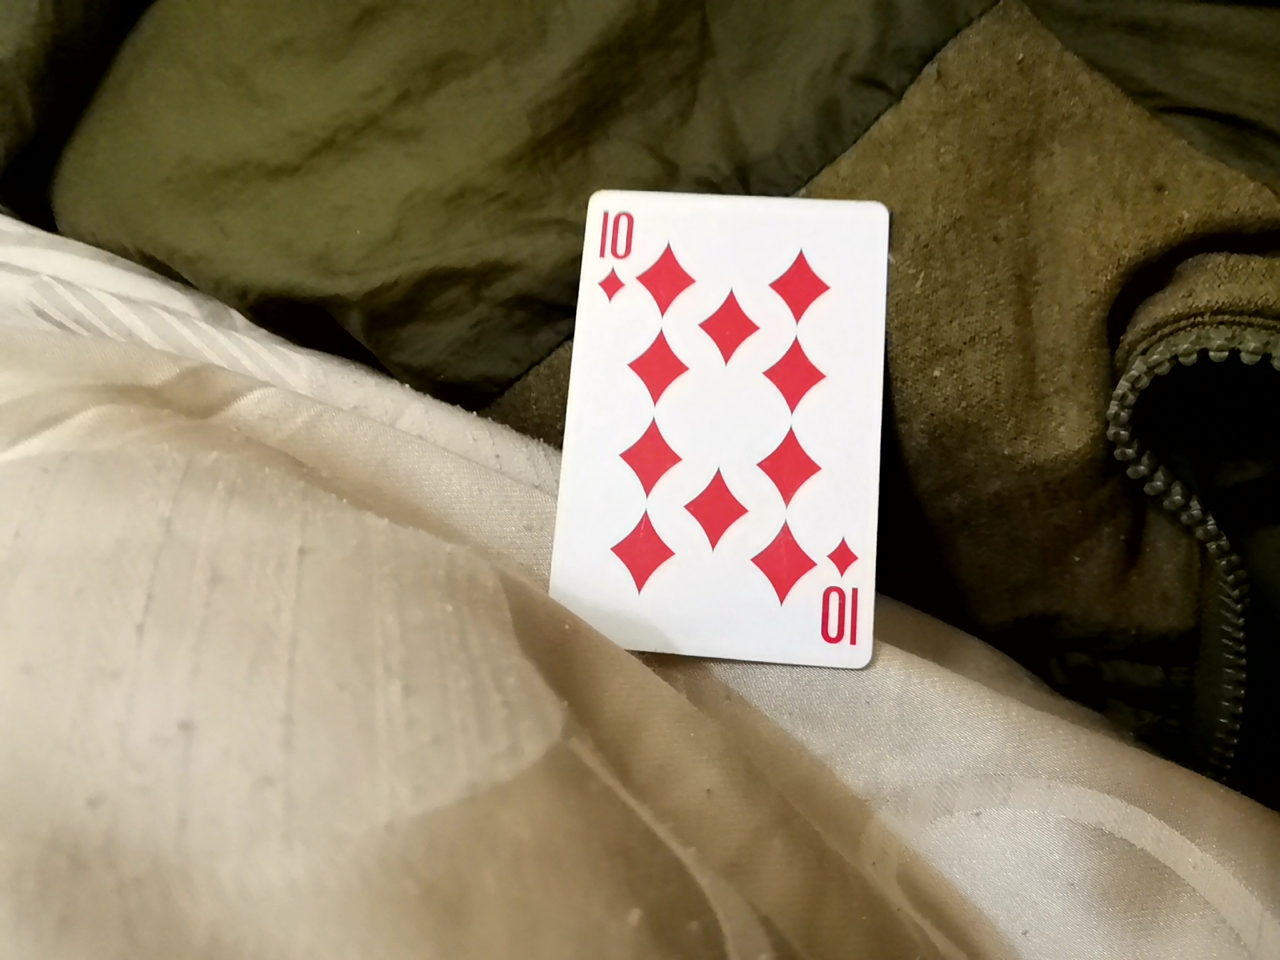fk 10: (536, 186, 883, 676)
